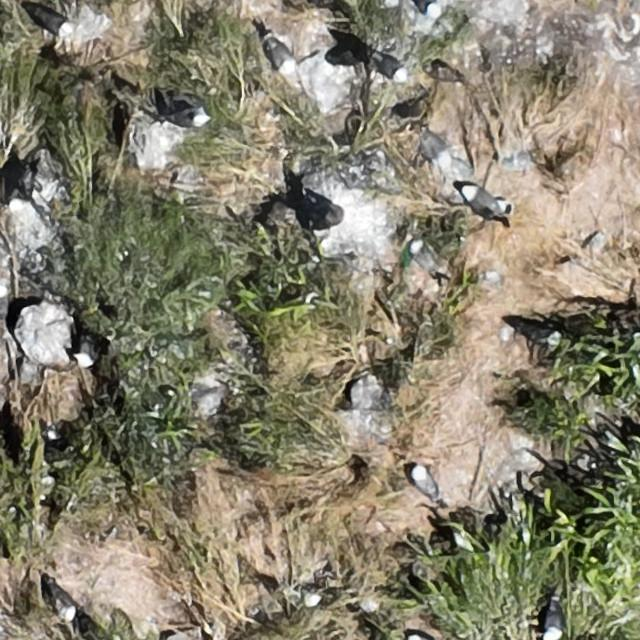umineko: (47, 579, 81, 623), (9, 165, 36, 212), (315, 200, 355, 230), (536, 325, 564, 366), (422, 130, 452, 168), (464, 188, 504, 212), (168, 107, 215, 127), (74, 331, 97, 369), (298, 586, 332, 609), (411, 243, 435, 274), (411, 466, 434, 498), (543, 602, 562, 640), (270, 40, 292, 72), (52, 588, 74, 620), (535, 603, 560, 631), (38, 12, 69, 34), (76, 339, 94, 366), (383, 61, 407, 81), (300, 588, 320, 606), (426, 0, 445, 15), (382, 0, 403, 7)
